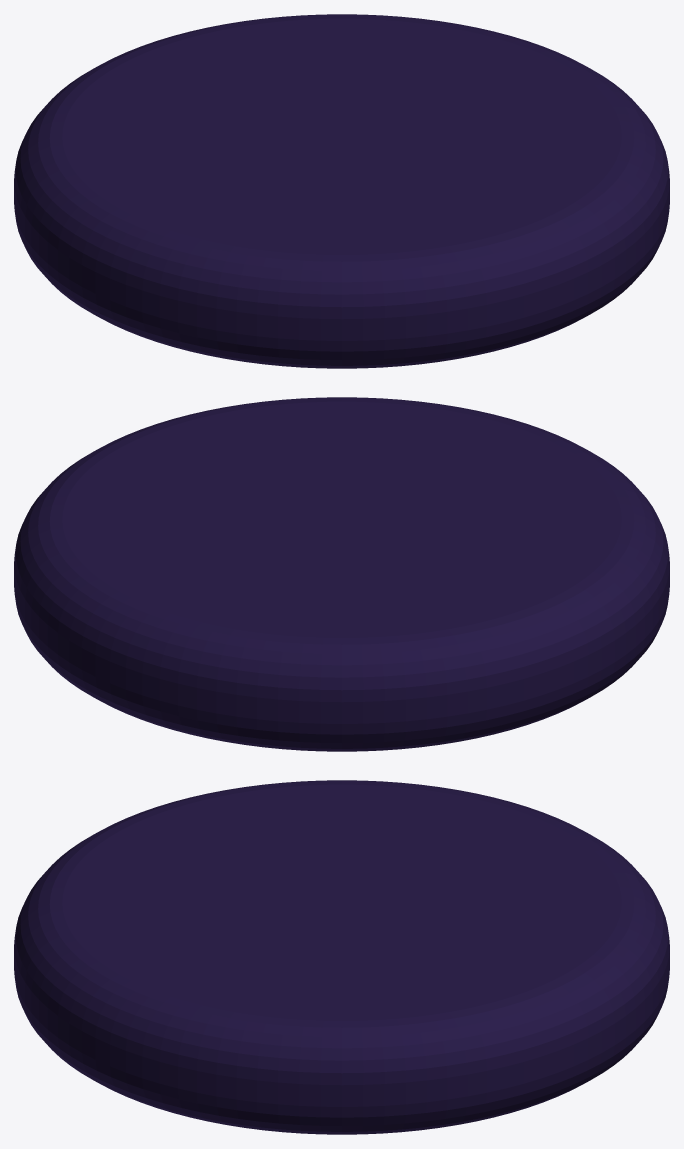
The model's file is CenterHub.fbx.
3 renders of one model, top to bottom at view 1: azimuth 30°, elevation 25°; view 2: azimuth 150°, elevation 25°; view 3: azimuth 270°, elevation 25°, orthographic.
Parts seen in each view (by area): view 1: Dark Center Hub; view 2: Dark Center Hub; view 3: Dark Center Hub.
Boxes of the visible parts, x1,y1,x2,y2 form: Dark Center Hub: (14,14,669,368); Dark Center Hub: (14,397,669,751); Dark Center Hub: (14,780,669,1134).
Size of the model in its own units: 1.36 by 0.25 by 1.36.
